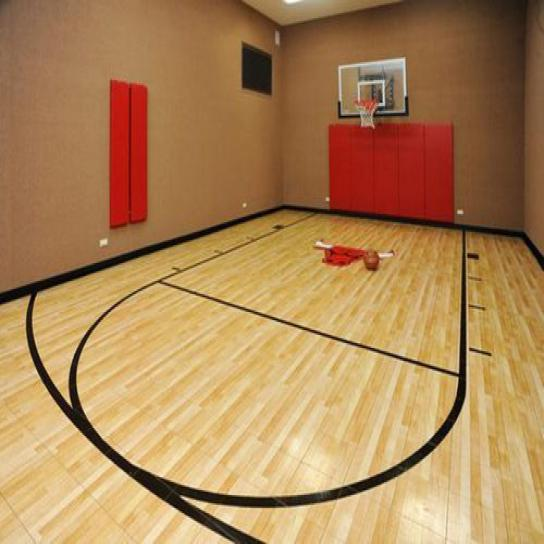basketball-hoop: (353, 100, 380, 129)
